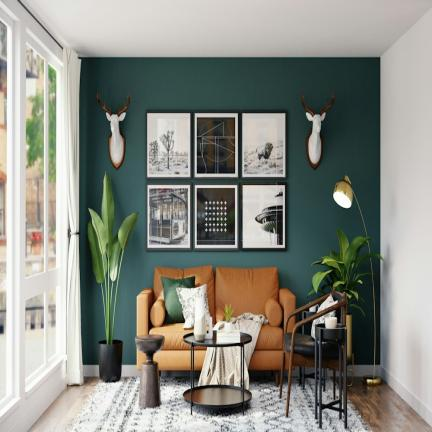air conditioner: (217, 329, 240, 343)
cabinet: (69, 377, 320, 430), (321, 401, 369, 431), (323, 380, 332, 401), (283, 391, 286, 397), (336, 388, 338, 393), (347, 387, 350, 389)
carpet: (280, 290, 346, 417), (327, 365, 330, 366)
chair: (62, 48, 83, 384)
door: (349, 378, 432, 431), (29, 376, 98, 431), (271, 386, 277, 398), (282, 399, 285, 405), (282, 408, 283, 414), (428, 413, 429, 416), (186, 383, 187, 386)
floor: (241, 183, 286, 249), (194, 113, 238, 178), (194, 183, 238, 248), (147, 113, 191, 177), (147, 185, 191, 249), (242, 113, 286, 176)
person: (88, 173, 138, 343), (312, 228, 382, 313), (223, 304, 234, 323), (308, 292, 312, 295)
plant: (99, 339, 122, 381), (347, 314, 352, 361), (224, 322, 232, 332)
vegetables: (79, 58, 383, 364), (380, 8, 432, 424), (353, 278, 373, 363), (376, 300, 380, 364), (374, 262, 380, 300), (277, 358, 280, 366), (383, 252, 385, 259), (366, 265, 369, 269), (115, 228, 118, 231), (134, 365, 135, 368)
wall: (0, 0, 67, 430)
